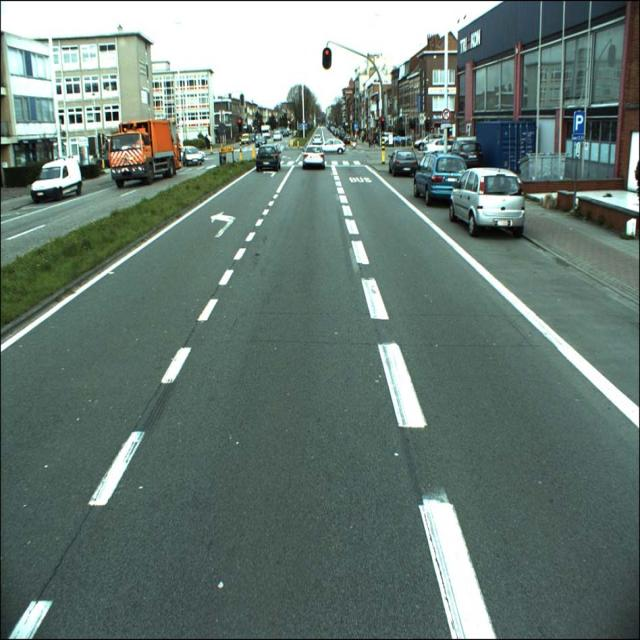kirmizi: (324, 48, 330, 68), (381, 118, 386, 132), (238, 118, 242, 134)
sagadonulmez: (443, 109, 450, 120)
